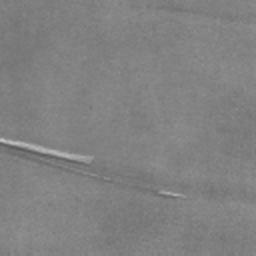Finishing roll printing: (0, 136, 110, 182), (159, 189, 188, 198)
